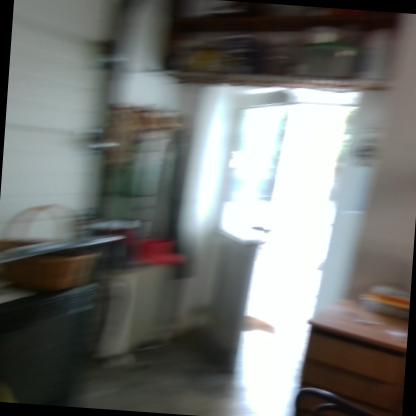semi: (177, 66, 370, 398)
